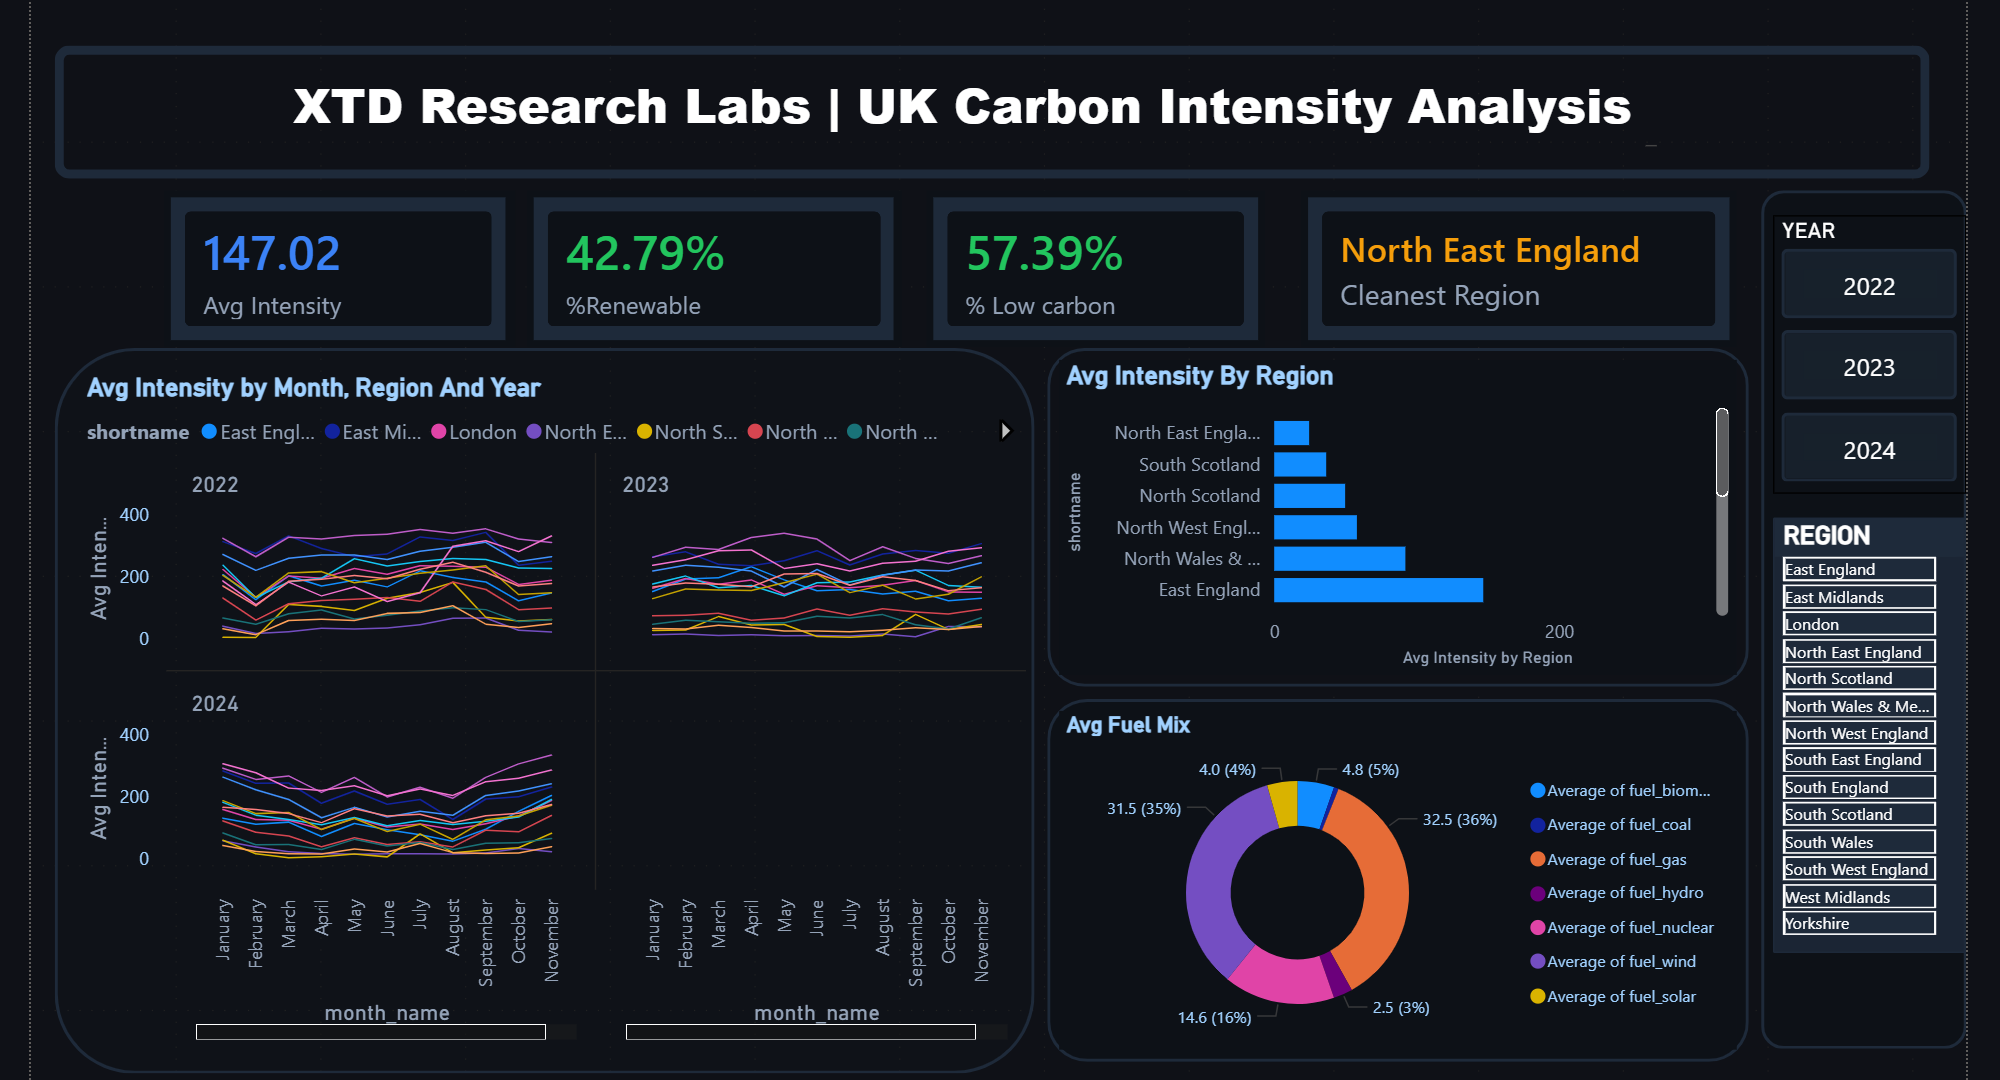

The page's visual inventory and layout, read from the dashboard file:
{"tool":"powerbi","page":{"name":"XTD RESEARCH ANALYSIS","canvas":[1280,720],"ordinal":0},"visuals":[{"type":"shape","box":[16,32,1240,88],"z":0},{"type":"shape","box":[672,464,464,240],"z":1000},{"type":"shape","box":[16,232,648,480],"z":2000},{"type":"cardVisual","fields":{"Data":["carbon fact_historical_averages.%Renewable"]},"box":[328,128,248,104],"z":3000},{"type":"cardVisual","fields":{"Data":["carbon fact_historical_averages.Avg Intensity"]},"box":[88,128,232,104],"z":4000},{"type":"cardVisual","fields":{"Data":["carbon fact_historical_averages.% Low carbon"]},"box":[592,128,224,104],"z":5000},{"type":"cardVisual","fields":{"Data":["carbon fact_historical_averages.Cleanest Region"]},"box":[840,128,288,104],"z":6000},{"type":"textbox","title":"XTD Research Labs  |  UK Carbon Intensity Analysis","box":[152,48,928,56],"z":7000},{"type":"lineChart","title":"Avg Intensity by Month, Region And Year","fields":{"Category":["carbon dim_date.month_name"],"Y":["carbon fact_historical_averages.Avg Intensity"],"Series":["carbon dim_region.shortname"],"Rows":["carbon dim_date.year"]},"box":[32,248,632,448],"z":8000},{"type":"shape","box":[672,232,464,224],"z":9000},{"type":"clusteredBarChart","title":"Avg Intensity By Region ","fields":{"Category":["carbon dim_region.shortname"],"Y":["carbon fact_historical_averages.Avg Intensity"]},"box":[680,240,448,208],"z":10000},{"type":"shape","box":[1144,128,136,568],"z":11000},{"type":"listSlicer","title":"REGION","fields":{"Values":["carbon dim_region.shortname"]},"box":[1152,344,128,288],"z":13000},{"type":"advancedSlicerVisual","title":"YEAR","fields":{"Values":["carbon dim_date.year"]},"box":[1152,144,128,184],"z":14000},{"type":"donutChart","title":"Avg Fuel Mix","fields":{"Y":["Avg(carbon fact_historical_averages.fuel_biomass)","Avg(carbon fact_historical_averages.fuel_coal)","Avg(carbon fact_historical_averages.fuel_gas)","Avg(carbon fact_historical_averages.fuel_hydro)","Avg(carbon fact_historical_averages.fuel_nuclear)","Avg(carbon fact_historical_averages.fuel_wind)","Avg(carbon fact_historical_averages.fuel_solar)"]},"box":[680,472,448,224],"z":14001}]}

Visuals, with their boxes on the page's 1280x720 design canvas (x1, y1, x2, y2). These are canvas units, not pixel positions in the 2000x1080 screenshot, which may show the page scaled, cropped or inside an application window:
shape: x1=16 y1=32 x2=1256 y2=120
shape: x1=672 y1=464 x2=1136 y2=704
shape: x1=16 y1=232 x2=664 y2=712
cardVisual - carbon fact_historical_averages.%Renewable: x1=328 y1=128 x2=576 y2=232
cardVisual - carbon fact_historical_averages.Avg Intensity: x1=88 y1=128 x2=320 y2=232
cardVisual - carbon fact_historical_averages.% Low carbon: x1=592 y1=128 x2=816 y2=232
cardVisual - carbon fact_historical_averages.Cleanest Region: x1=840 y1=128 x2=1128 y2=232
"XTD Research Labs  |  UK Carbon Intensity Analysis" textbox: x1=152 y1=48 x2=1080 y2=104
"Avg Intensity by Month, Region And Year" lineChart: x1=32 y1=248 x2=664 y2=696
shape: x1=672 y1=232 x2=1136 y2=456
"Avg Intensity By Region " clusteredBarChart: x1=680 y1=240 x2=1128 y2=448
shape: x1=1144 y1=128 x2=1280 y2=696
"REGION" listSlicer: x1=1152 y1=344 x2=1280 y2=632
"YEAR" advancedSlicerVisual: x1=1152 y1=144 x2=1280 y2=328
"Avg Fuel Mix" donutChart: x1=680 y1=472 x2=1128 y2=696
